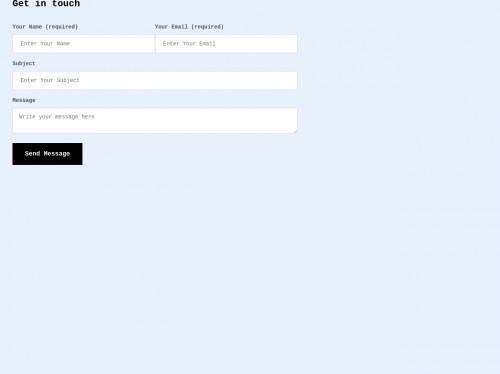button: (13, 144, 84, 167)
input: (14, 109, 299, 134), (14, 73, 298, 90), (157, 36, 298, 54), (14, 36, 156, 53)
label: (14, 23, 81, 32), (156, 23, 226, 31), (12, 59, 38, 69), (13, 96, 39, 105)
